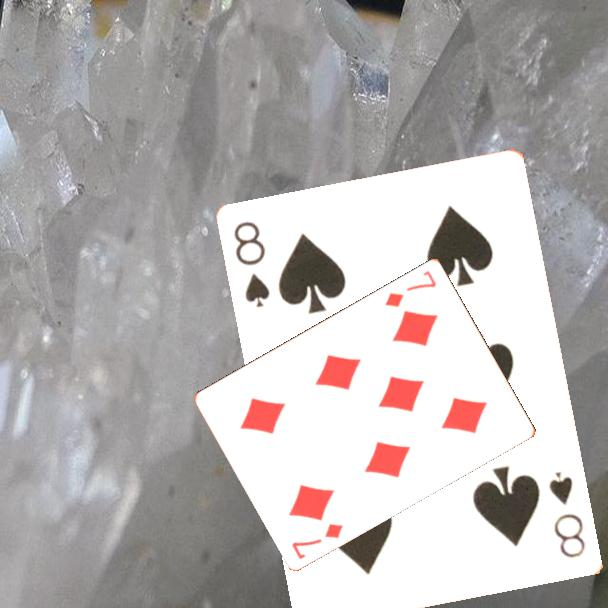d07: (382, 266, 440, 310), (288, 519, 346, 562)
s08: (546, 468, 589, 562), (231, 218, 273, 311)
